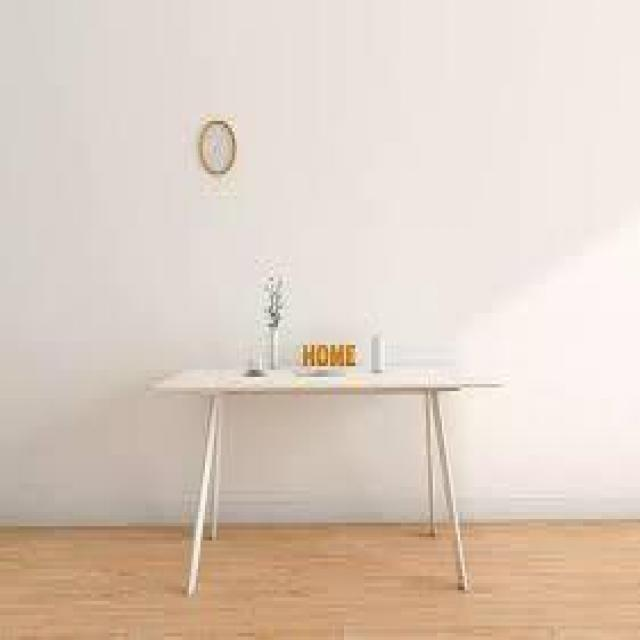table: (103, 238, 542, 612)
